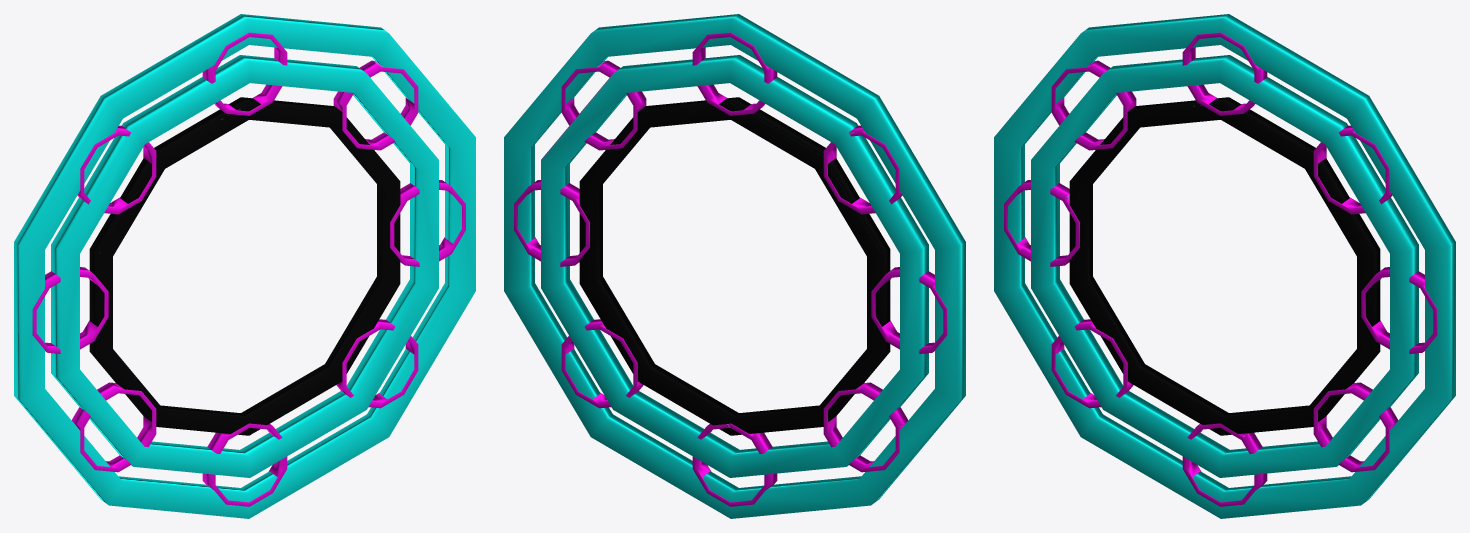
Rendered from playerBullet.obj.
3 views of the same model, side by side, from view 1: azimuth 30°, elevation 25°; view 2: azimuth 150°, elevation 25°; view 3: azimuth 330°, elevation 25° (orthographic).
Parts seen in each view (by area): view 1: playerBullet; view 2: playerBullet; view 3: playerBullet.
Boxes of the visible parts, x1,y1,x2,y2 form: playerBullet: (14,14,475,518); playerBullet: (504,14,965,518); playerBullet: (994,14,1455,518).
Size of the model in its own units: 5.71 by 6 by 0.22.
1 material, 1 textured.
